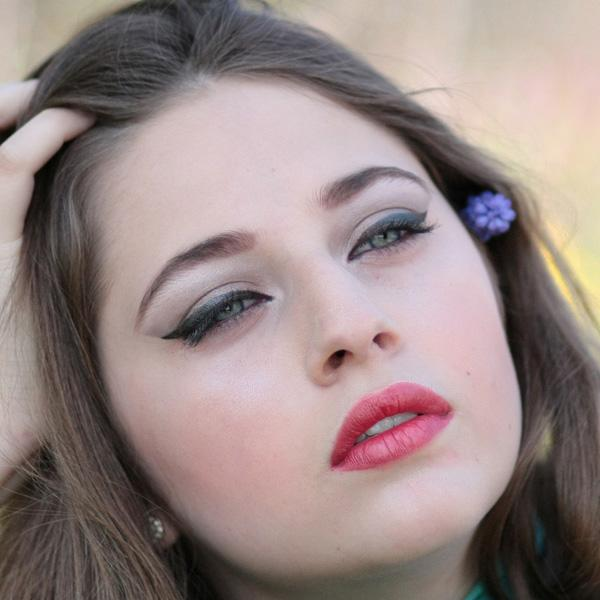Eyes: (163, 270, 284, 361), (339, 194, 432, 278)
